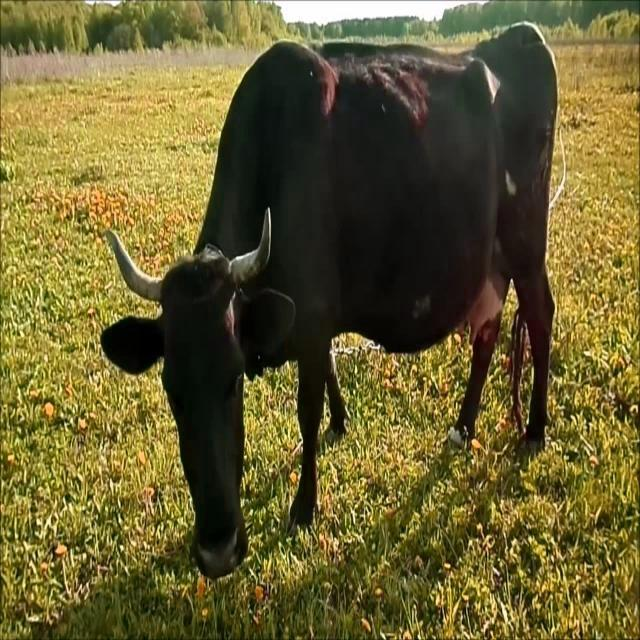cow: (101, 25, 556, 577)
